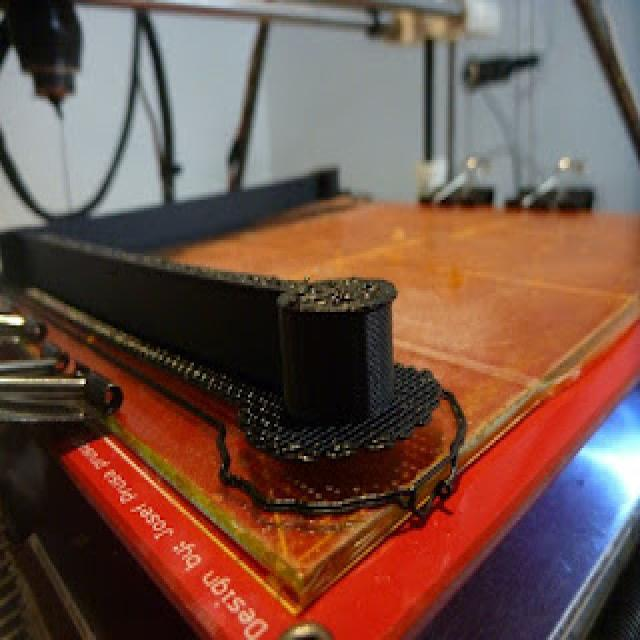warping: (123, 336, 465, 499)
